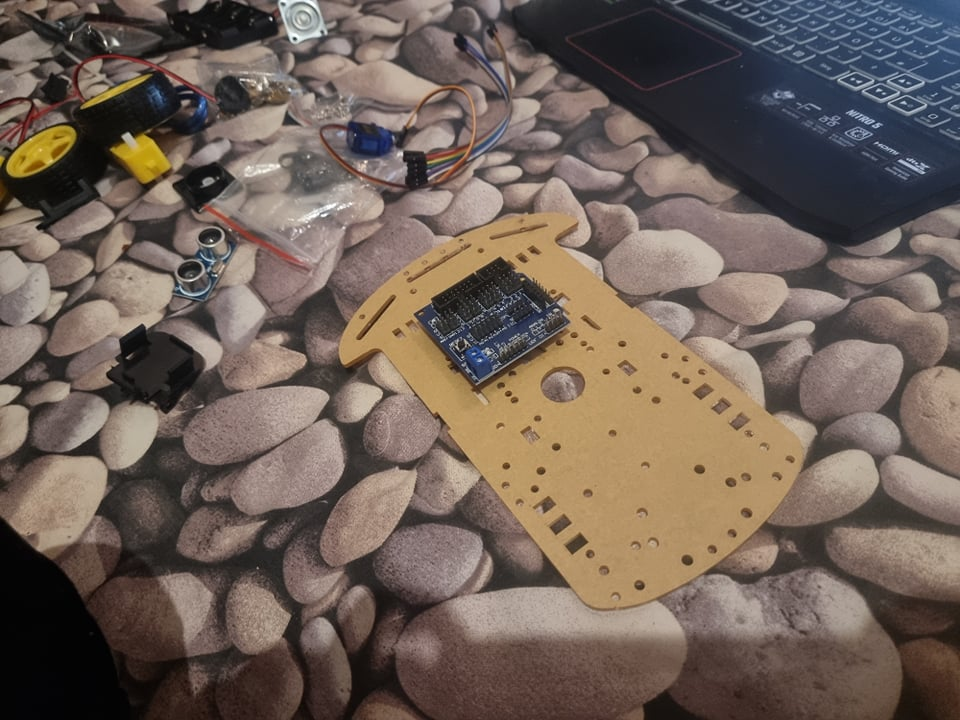5V EXPANSION: (410, 254, 571, 385)
BATTERY BOX: (164, 1, 277, 54)
SENSOR: (173, 226, 235, 299)
